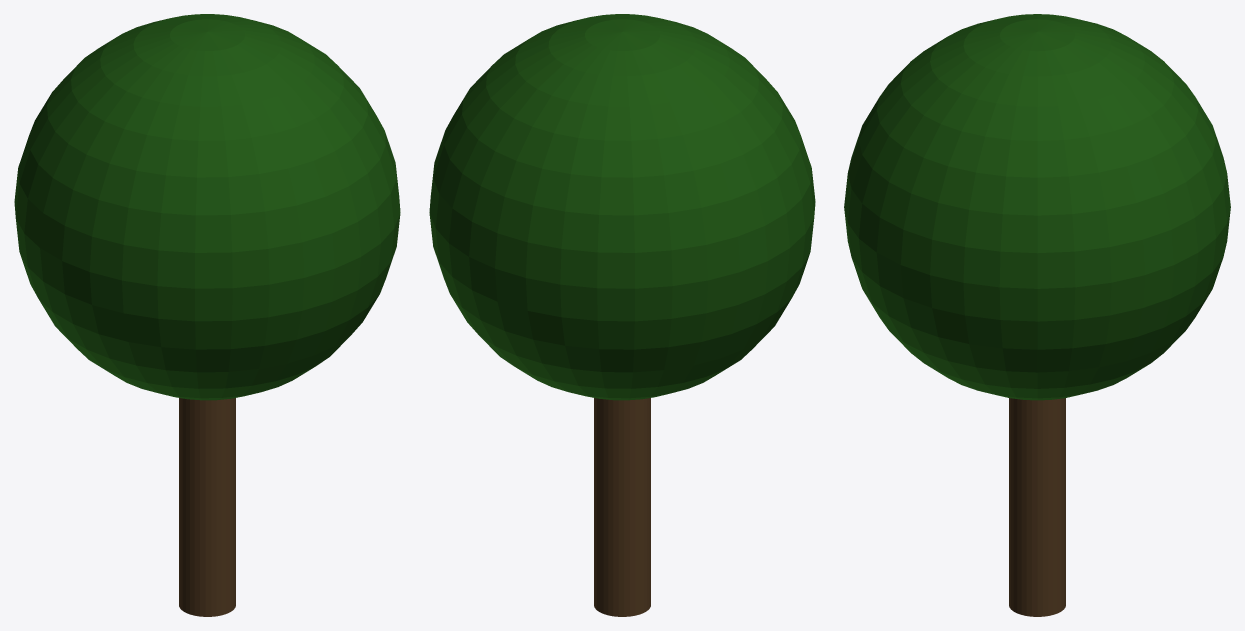
File: tree2.fbx
The picture shows the model from 3 angles, left to right: view 1: azimuth 30°, elevation 25°; view 2: azimuth 150°, elevation 25°; view 3: azimuth 270°, elevation 25°; orthographic projection.
Visible parts, largest first — view 1: Sphere, Cylinder; view 2: Sphere, Cylinder; view 3: Sphere, Cylinder.
Boxes of the visible parts, x1,y1,x2,y2 form: Sphere: [14, 14, 400, 400]; Cylinder: [179, 398, 235, 616]; Sphere: [429, 14, 815, 400]; Cylinder: [594, 398, 650, 616]; Sphere: [844, 14, 1230, 400]; Cylinder: [1009, 398, 1065, 616].
Size of the model in its own units: 552 by 901 by 552.
